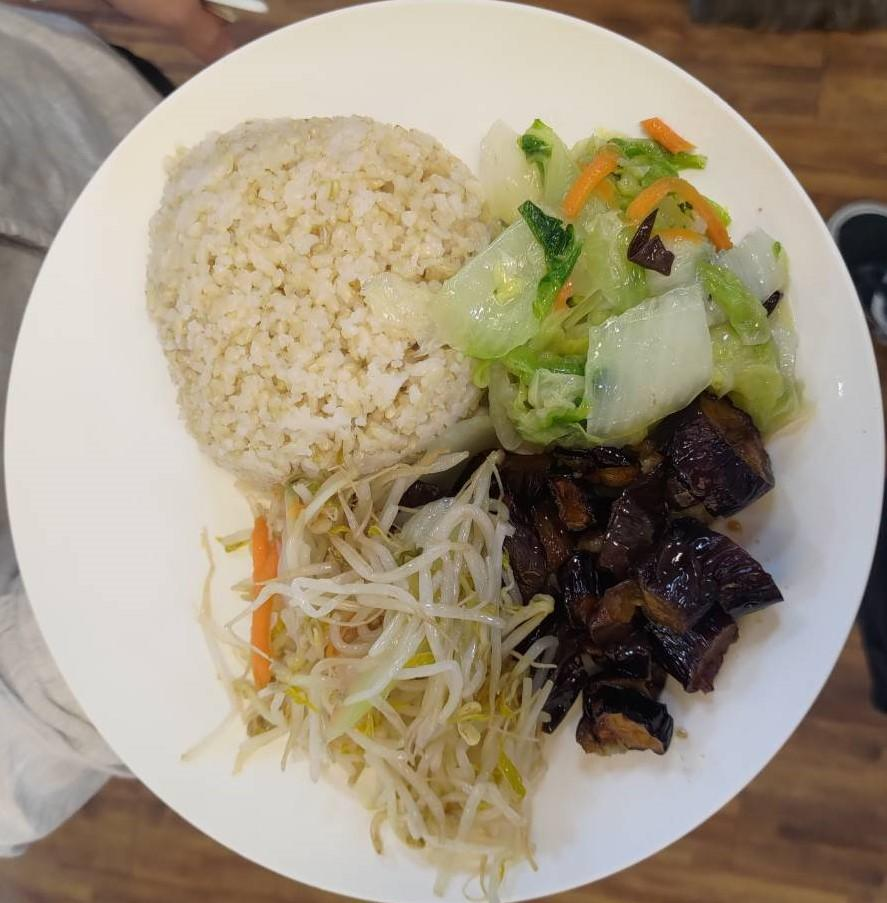big fried chicken leg: (12, 14, 879, 887)
big herbal chicken leg: (132, 118, 517, 484)
braised fish fillet: (198, 462, 573, 887), (456, 104, 807, 452), (455, 402, 790, 743)
